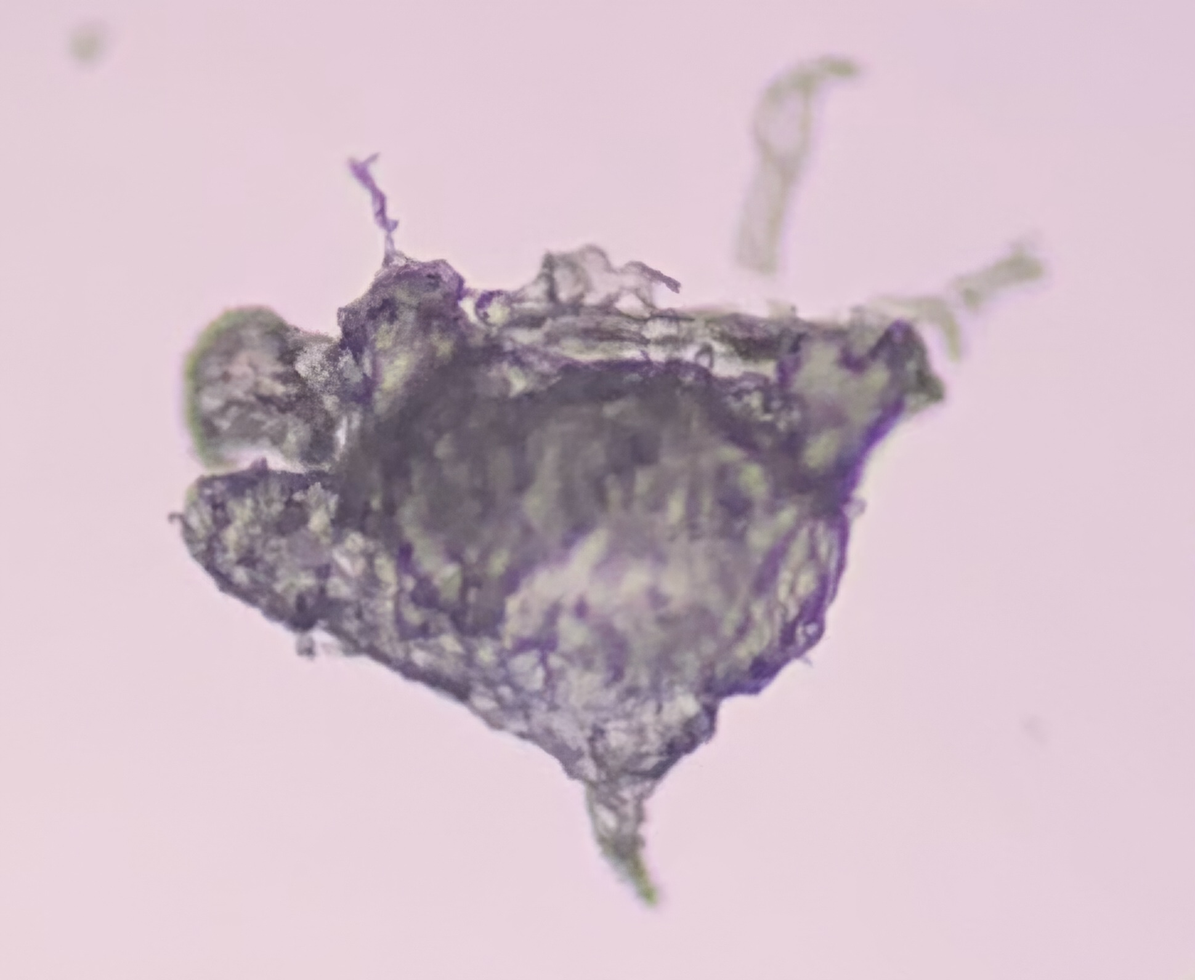microplastic: (163, 153, 1045, 914)
